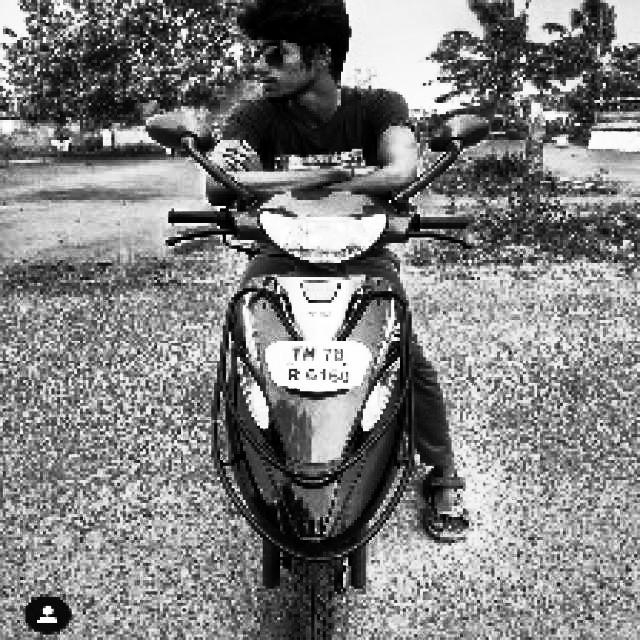Bike: (173, 159, 435, 633)
